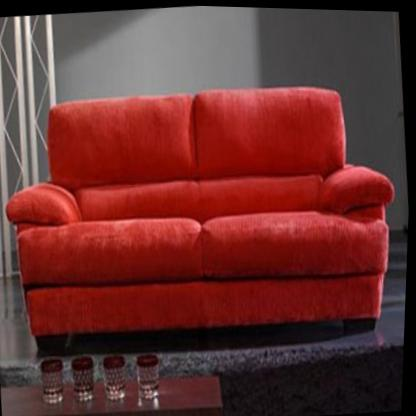Sofa: (0, 67, 411, 370)
